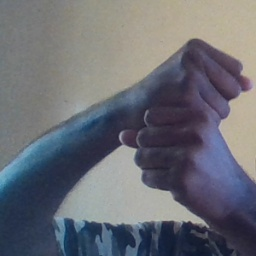G: (127, 34, 252, 194)
